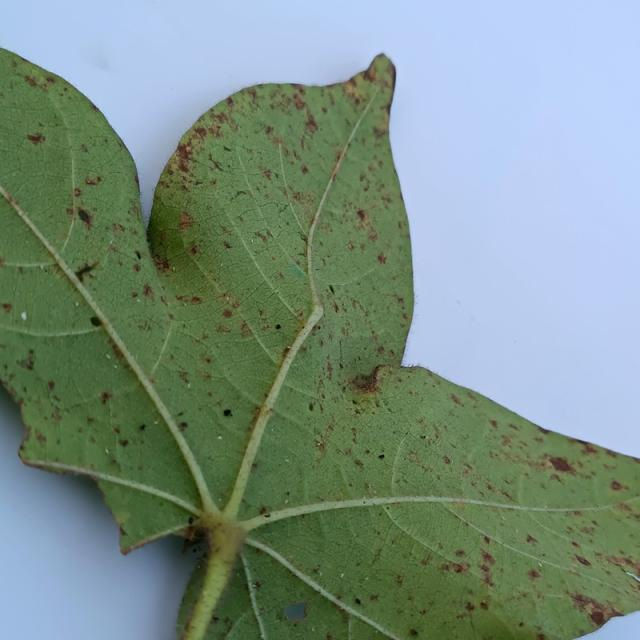Bacterial_Blight: (349, 364, 389, 394), (173, 141, 195, 171), (439, 558, 472, 575), (546, 455, 575, 473), (349, 209, 376, 228), (284, 602, 308, 622), (303, 106, 319, 135), (74, 262, 97, 282), (363, 61, 382, 83), (478, 560, 494, 586), (605, 555, 633, 569), (16, 352, 35, 372), (178, 210, 196, 231), (76, 207, 92, 228), (588, 609, 606, 626), (208, 155, 225, 173), (25, 131, 46, 145), (154, 256, 171, 272), (85, 173, 103, 188), (293, 92, 307, 111), (218, 305, 234, 321), (479, 550, 494, 567), (329, 162, 342, 181), (239, 323, 253, 338), (259, 166, 273, 181), (449, 394, 465, 407), (610, 479, 627, 491), (574, 555, 591, 567), (142, 284, 154, 299), (527, 568, 541, 580), (100, 391, 111, 405), (256, 232, 268, 244), (89, 316, 102, 327), (234, 190, 249, 199), (217, 324, 231, 333), (1, 302, 12, 313), (377, 252, 387, 264), (525, 534, 537, 544), (453, 498, 467, 506), (488, 418, 498, 429), (465, 602, 475, 612), (455, 549, 466, 558), (442, 455, 451, 465), (222, 240, 231, 250), (189, 246, 198, 255), (179, 421, 188, 430), (259, 507, 268, 516), (133, 263, 141, 273), (119, 439, 129, 447), (369, 594, 379, 602), (48, 380, 55, 391), (119, 526, 126, 537), (73, 188, 81, 197), (223, 145, 232, 153), (223, 409, 232, 417), (308, 402, 315, 412), (328, 285, 335, 295), (253, 581, 261, 589), (409, 628, 417, 636), (185, 145, 192, 154), (352, 398, 360, 405), (212, 617, 219, 624), (354, 598, 361, 605), (139, 424, 146, 431), (188, 516, 194, 524), (348, 243, 354, 250), (378, 454, 385, 460), (275, 324, 282, 330), (192, 547, 198, 553), (420, 434, 426, 439), (286, 491, 290, 496), (362, 500, 367, 504), (136, 298, 140, 303)
Cotton: (0, 50, 639, 639)
